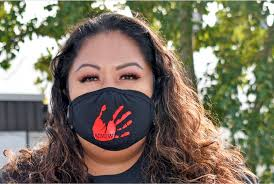with-mask: (60, 17, 169, 153)
